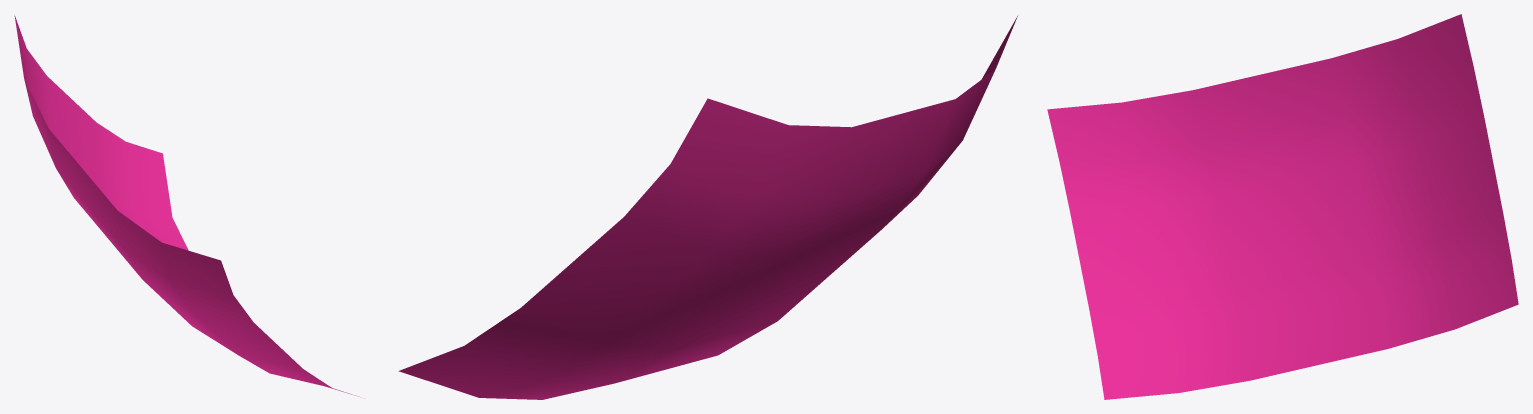
File: PinkSlip.fbx
3 views of the same model, side by side, from view 1: azimuth 30°, elevation 25°; view 2: azimuth 150°, elevation 25°; view 3: azimuth 270°, elevation 25° (orthographic). The views are drawn at different scales.
Parts seen in each view (by area): view 1: Plane.003; view 2: Plane.003; view 3: Plane.003.
Part boxes in pixels (x1=…): Plane.003: x1=14, y1=15, x2=359, y2=396; Plane.003: x1=398, y1=16, x2=1017, y2=399; Plane.003: x1=1047, y1=14, x2=1518, y2=399.
Bounding box in the file's own units: 241 × 335 × 472.
